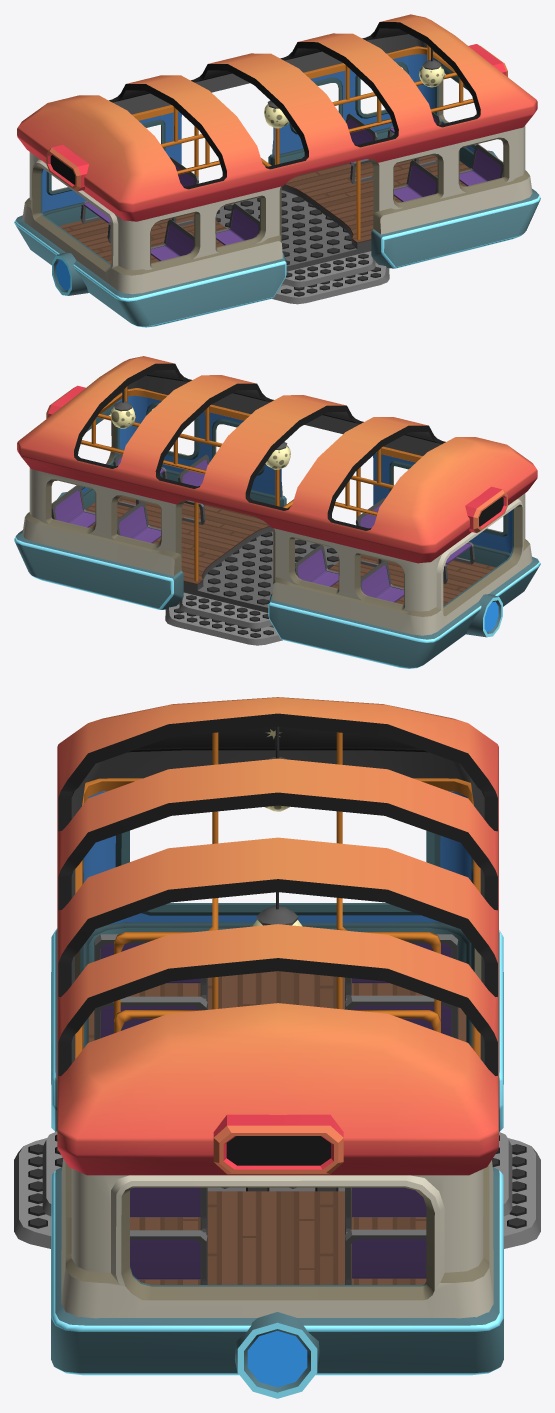
The model's file is genesis_tram.glb.
3 views of the same model, one above another, from view 1: azimuth 30°, elevation 25°; view 2: azimuth 150°, elevation 25°; view 3: azimuth 270°, elevation 25° (orthographic). The views are drawn at different scales.
Parts seen in each view (by area): view 1: genesis_tram; view 2: genesis_tram; view 3: genesis_tram.
Part boxes in pixels (left/top/right/bottom): genesis_tram: left=14, top=14, right=540, bottom=327; genesis_tram: left=14, top=356, right=540, bottom=668; genesis_tram: left=14, top=697, right=540, bottom=1398.
Size of what is drawn, in the model's own units: 15.31 by 5.85 by 8.21.
Materials: 1 (1 with a texture image).
